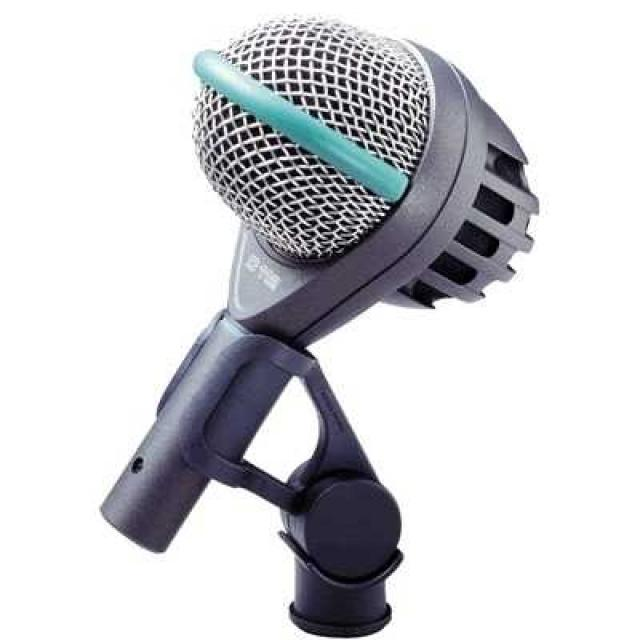microphone: (179, 24, 539, 302)
